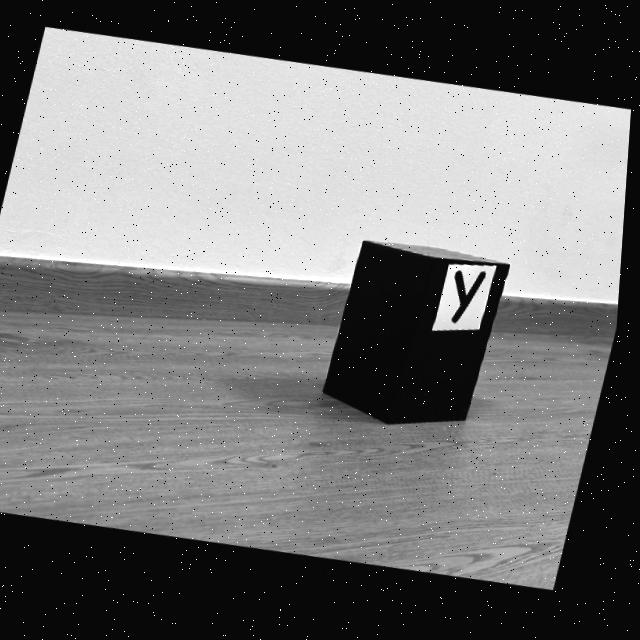Y: (456, 274, 490, 326)
